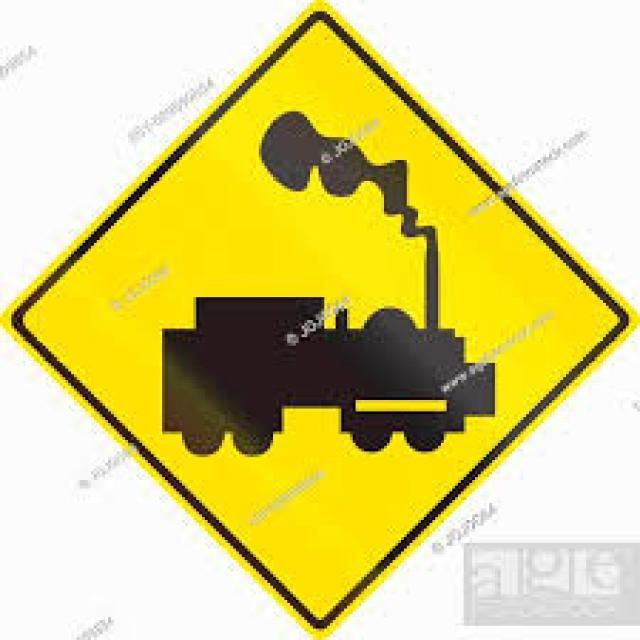unguarded level crossing: (79, 82, 553, 500)
